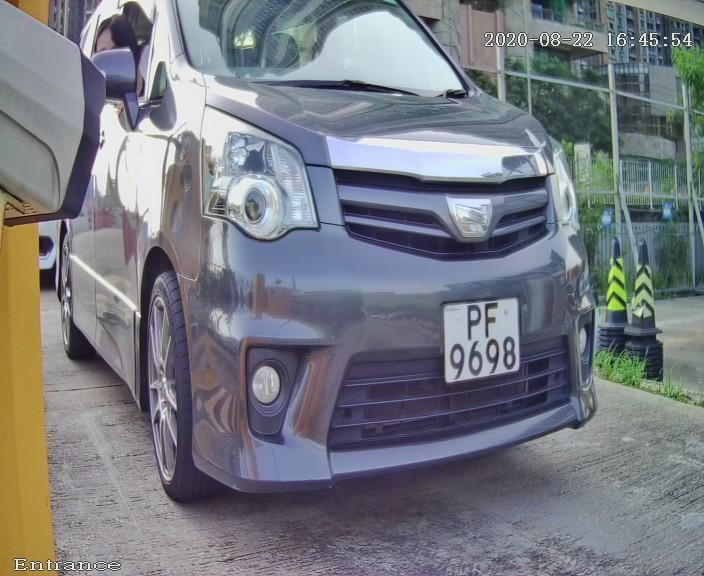Car: (67, 1, 623, 541)
License Plate: (437, 289, 522, 391)
